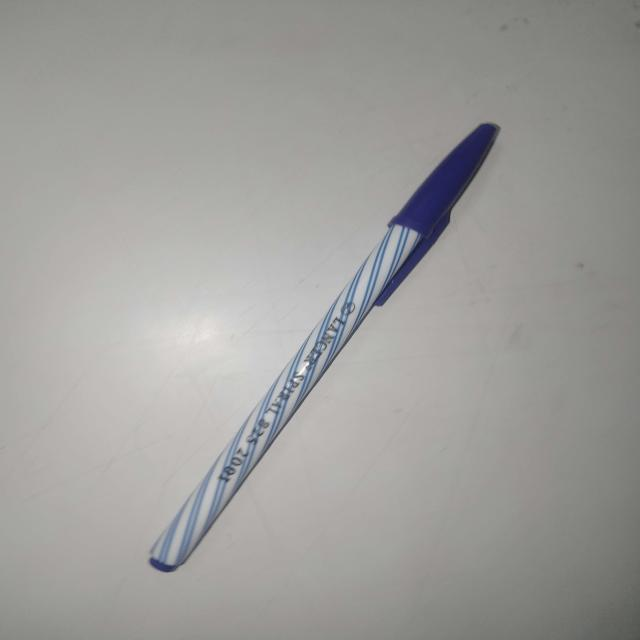pen_pencil: (116, 115, 526, 592)
